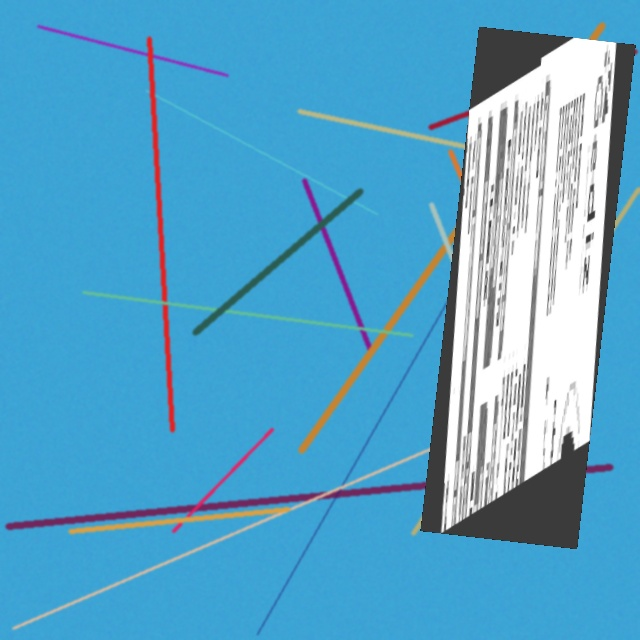electricity-bill: (420, 27, 636, 549)
